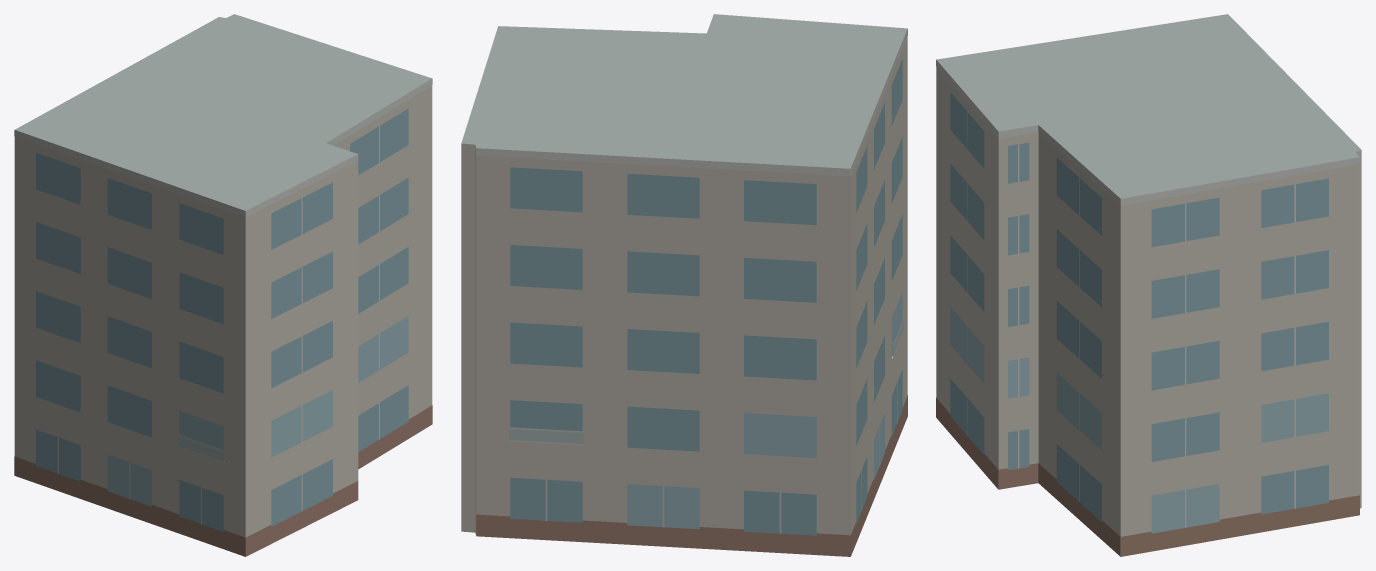
Rendered from survey-upis-32842531.glb.
The picture shows the model from 3 angles, left to right: view 1: azimuth 30°, elevation 25°; view 2: azimuth 150°, elevation 25°; view 3: azimuth 270°, elevation 25°; orthographic projection. The views are drawn at different scales.
Visible parts, largest first — view 1: survey-upis-32842531.tmp; view 2: survey-upis-32842531.tmp; view 3: survey-upis-32842531.tmp.
Part boxes in pixels (x1,y1,x2,y2): survey-upis-32842531.tmp: (14,14,432,556); survey-upis-32842531.tmp: (461,14,907,556); survey-upis-32842531.tmp: (936,14,1361,556).
Size of the model in its own units: 14.07 by 12.7 by 13.69.
